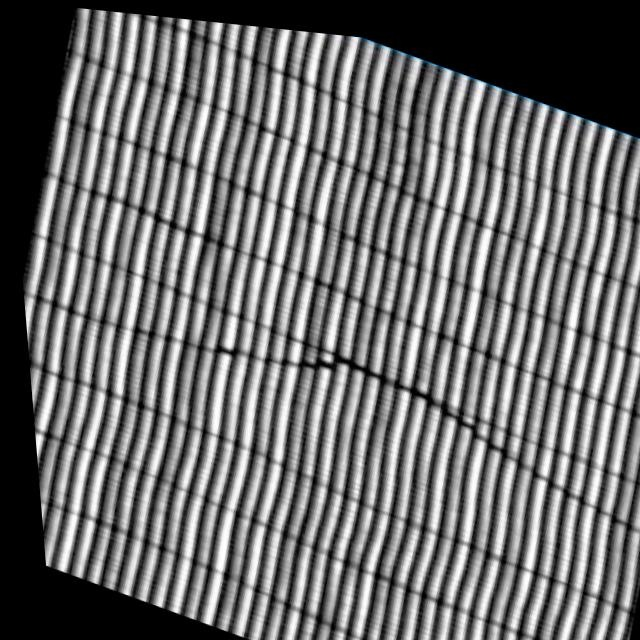Stitch: (138, 254, 619, 538)
